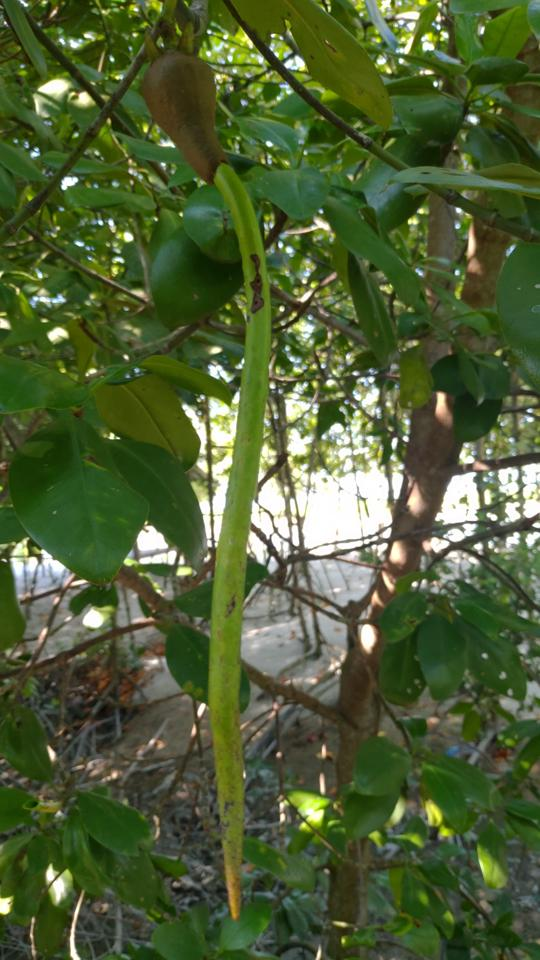mentah: (123, 41, 285, 940)
